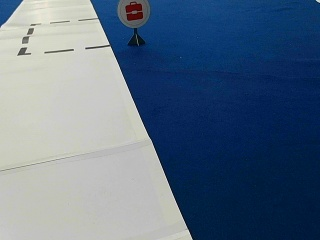company: (117, 0, 150, 27)
